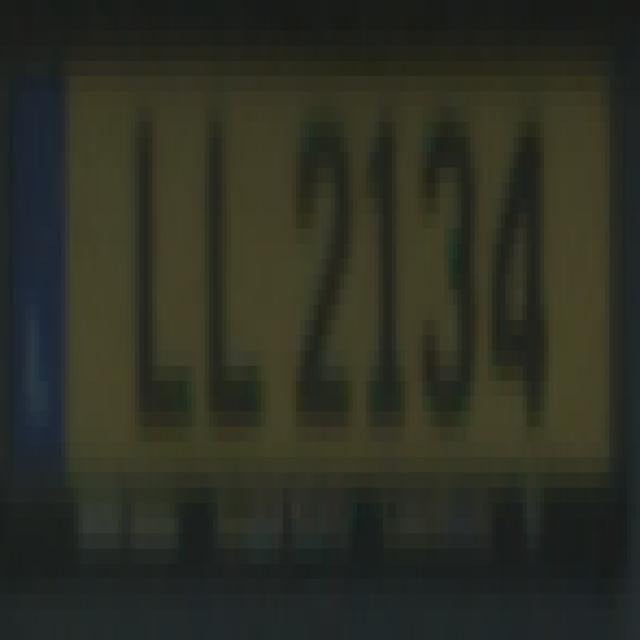EU: (4, 27, 615, 508)
